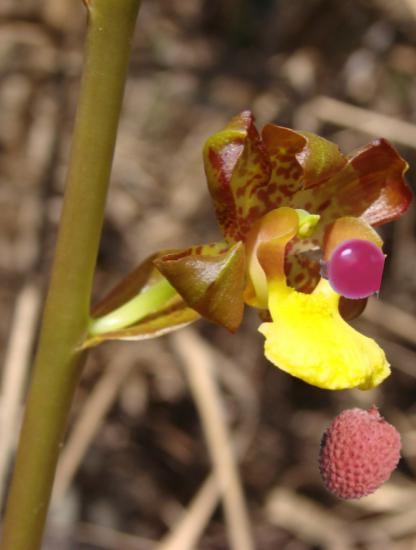Lychee: (309, 401, 412, 504)
Redcurrant: (319, 236, 383, 300)
